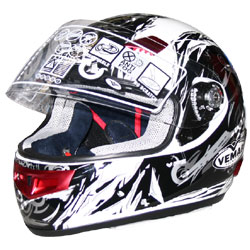helmet: (23, 11, 238, 216)
